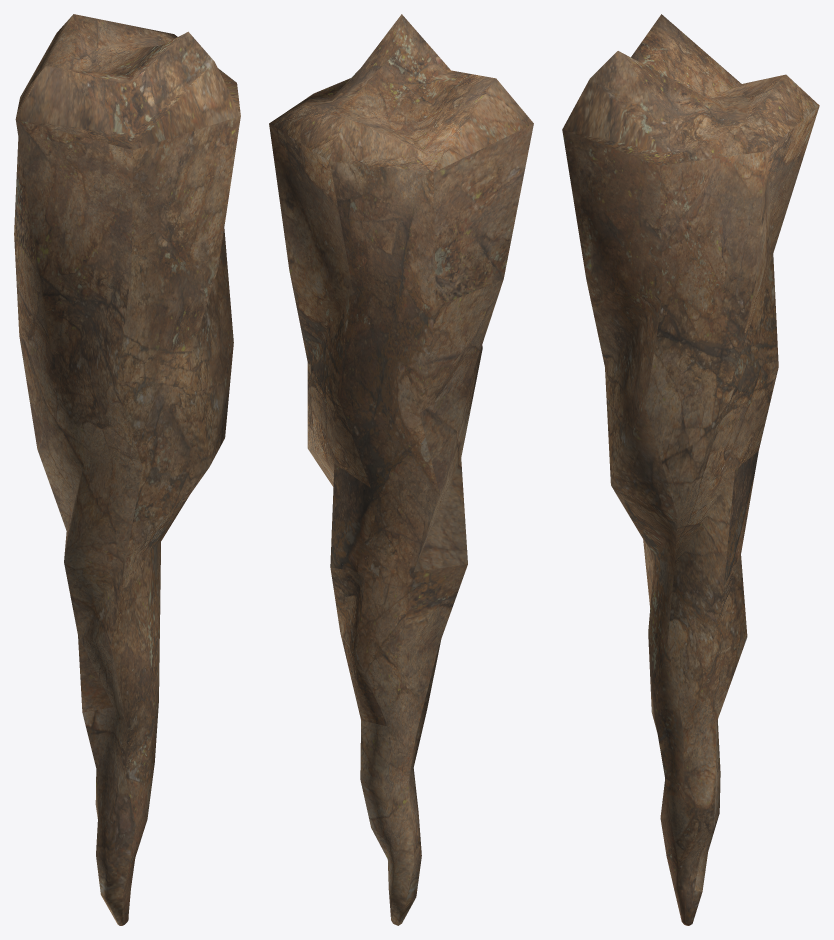
Rendered from DripstoneLong.fbx.
The picture shows the model from 3 angles, left to right: view 1: azimuth 30°, elevation 25°; view 2: azimuth 150°, elevation 25°; view 3: azimuth 270°, elevation 25°; orthographic projection. The views are drawn at different scales.
Visible parts, largest first — view 1: dripstone_long; view 2: dripstone_long; view 3: dripstone_long.
Boxes of the visible parts, x1,y1,x2,y2 form: dripstone_long: (14, 14, 240, 925); dripstone_long: (269, 14, 533, 925); dripstone_long: (562, 14, 819, 925).
Bounding box in the file's own units: 26.69 × 103 × 27.12.
